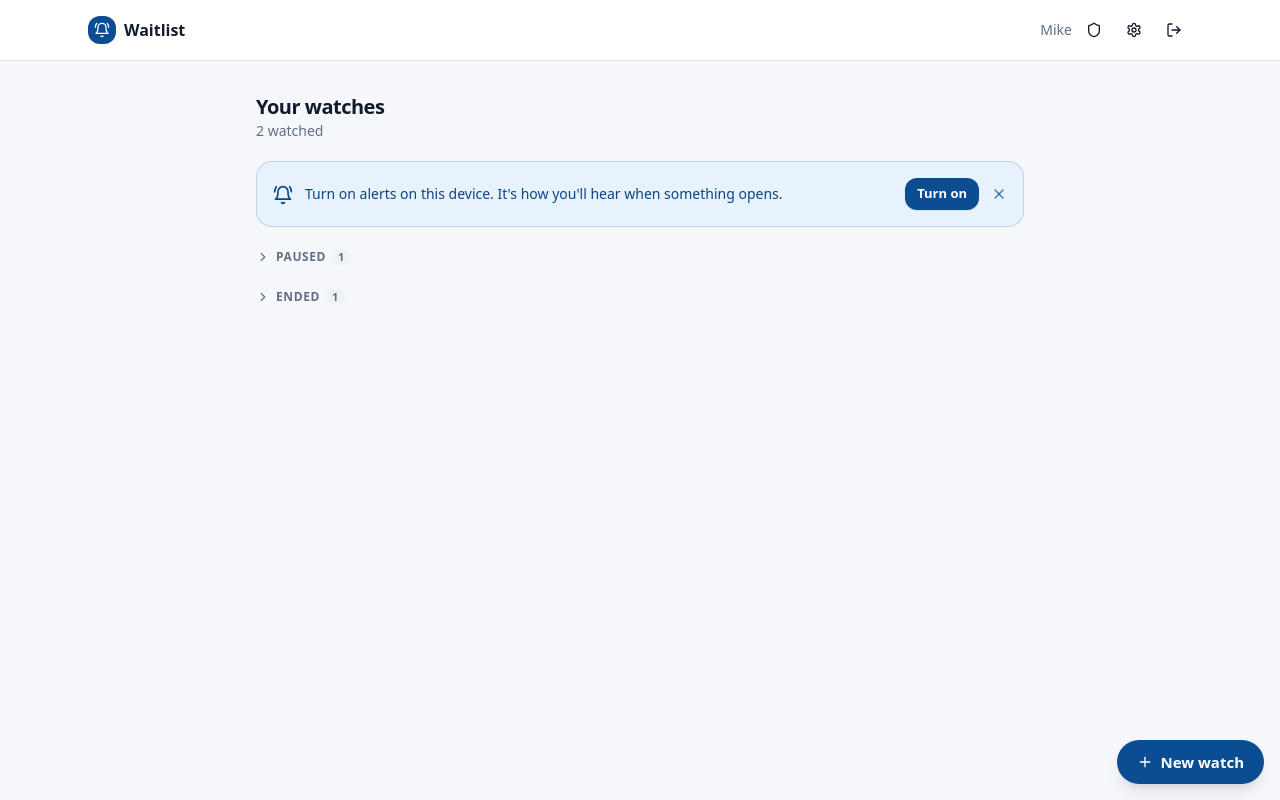
the dashboard › folds away what's paused and what has ended, with a count
Check: the button "Resume" is not shown
Click the button "Paused 1".
click(304, 257)  # box x1=256 y1=247 x2=351 y2=267
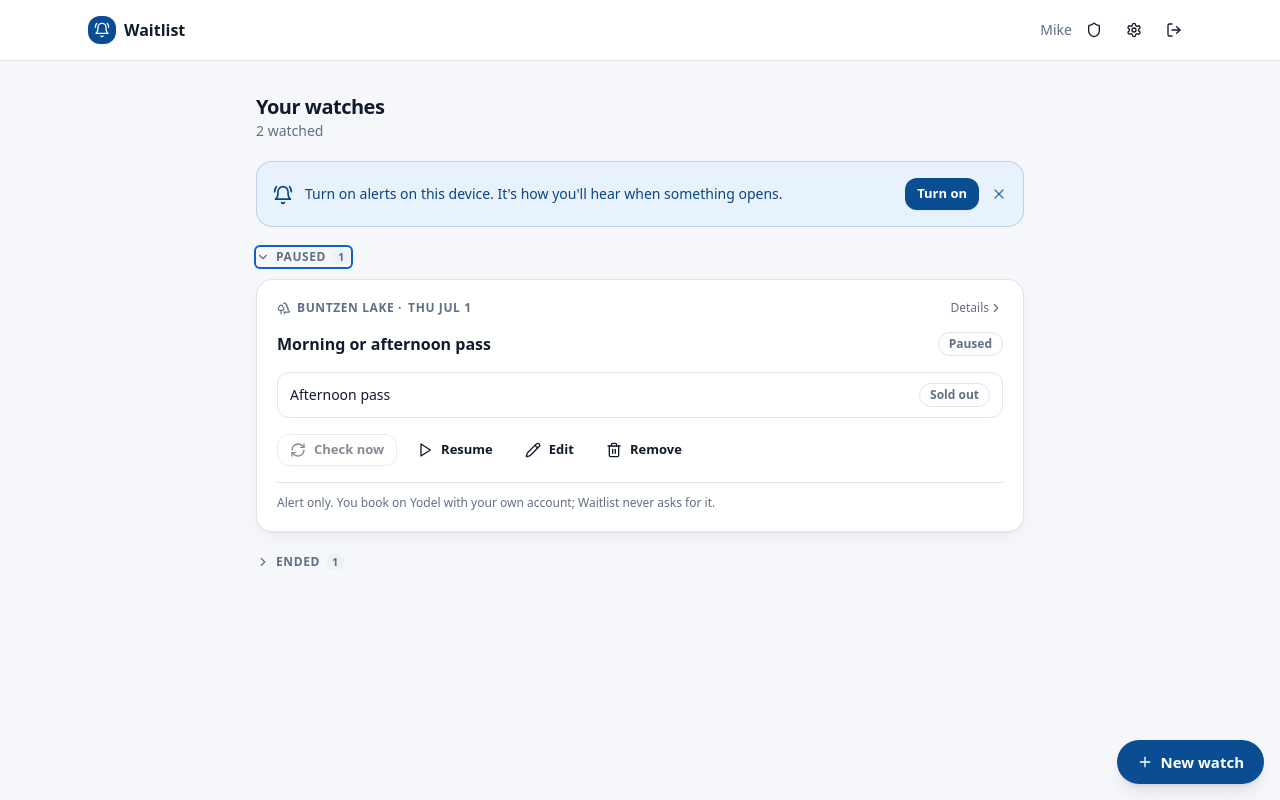
Check: the button "Resume" is shown, box x1=405 y1=434 x2=505 y2=466
